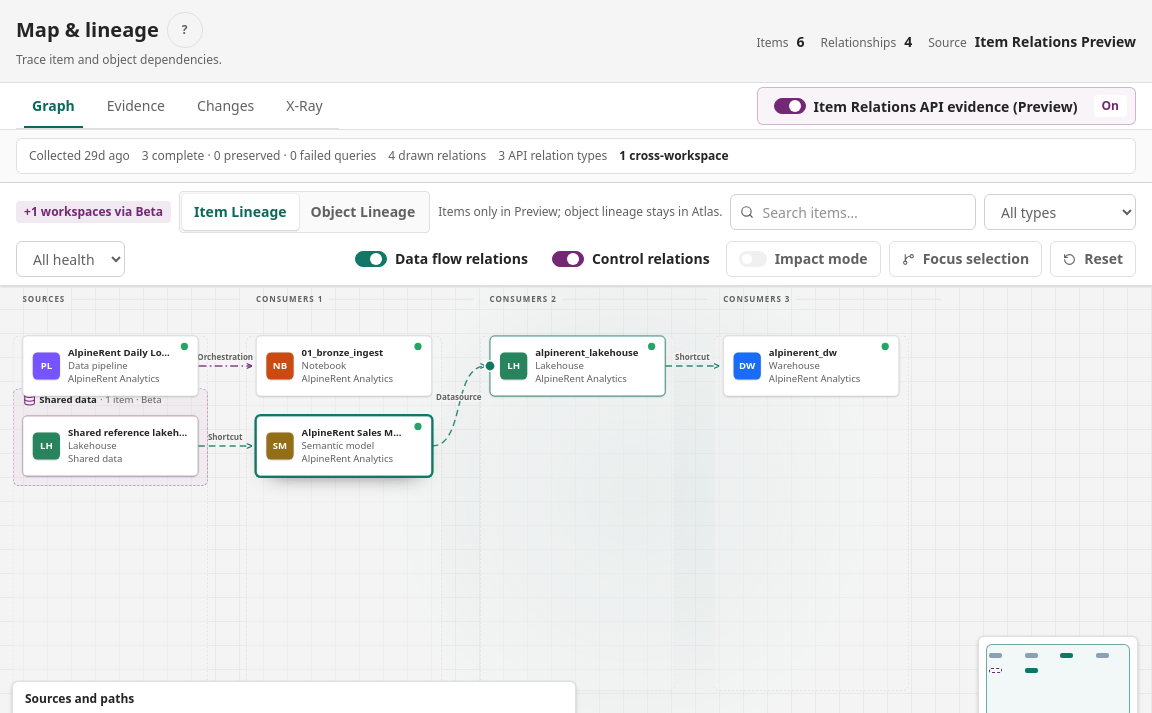
Test: Map & lineage unified evidence › explains the active graph source without agreement controls
expect the text "4 drawn relations" is shown: met, box [388,147,486,165]
Press the mouse on the tab "Evidence": (136, 106) [91,84,181,128]
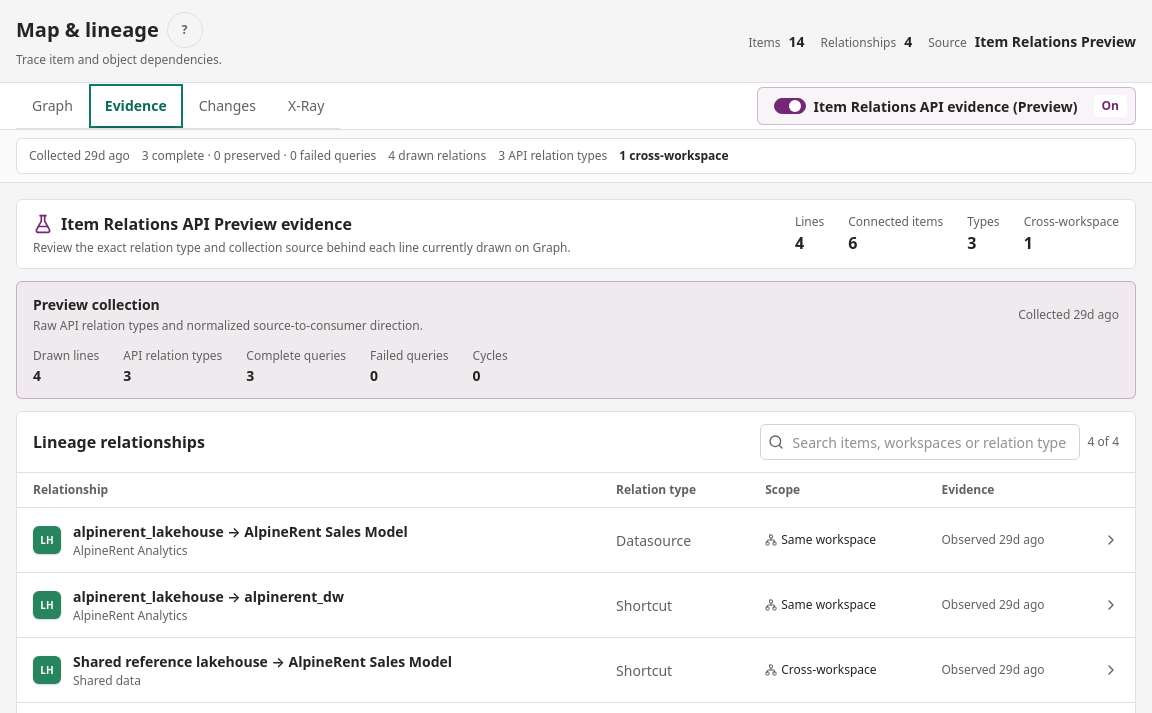
expect the column headings read "Relationship", "Relation type", "Scope", "Evidence", "Open", in this order: met, box [17,473,604,508]; [604,473,753,508]; [753,473,930,508]; [929,473,1095,508]; [1095,473,1135,508]
expect the text "Review the exact relation type" is shown: met, box [33,239,571,256]
